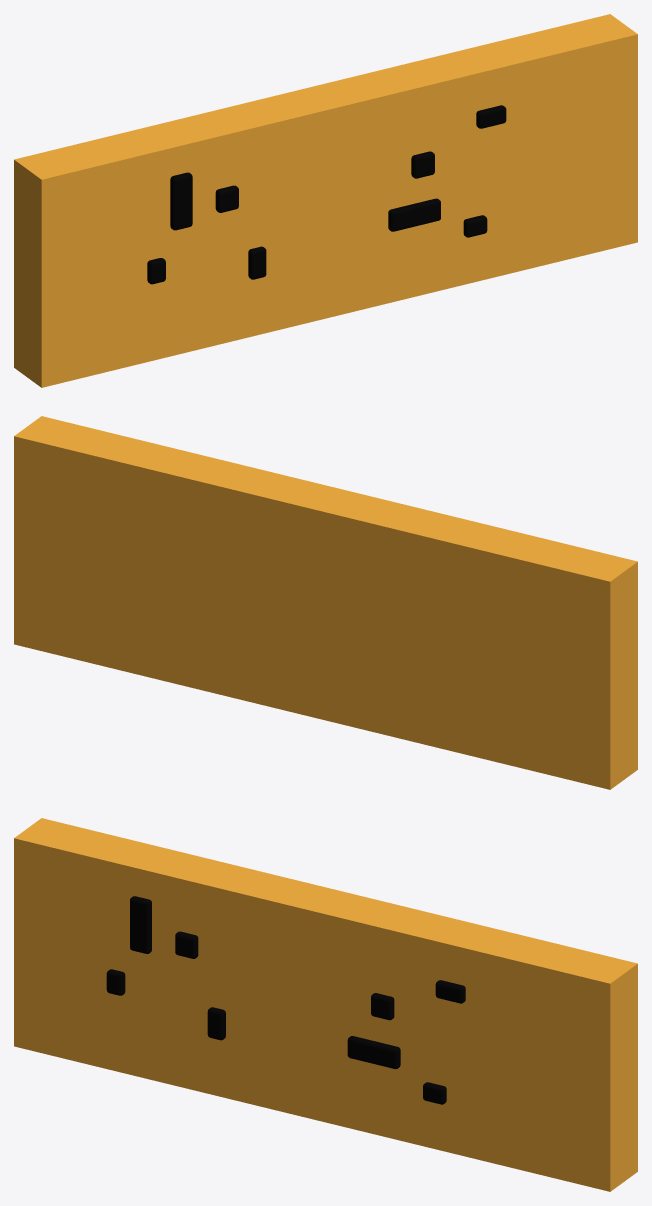
File: Roof Wall 2.fbx
3 views of the same model, one above another, from view 1: azimuth 30°, elevation 25°; view 2: azimuth 150°, elevation 25°; view 3: azimuth 330°, elevation 25° (orthographic).
Parts seen in each view (by area): view 1: Roof Wall 2; view 2: Roof Wall 2; view 3: Roof Wall 2.
Part boxes in pixels (x1=…): Roof Wall 2: x1=14, y1=14, x2=637, y2=387; Roof Wall 2: x1=14, y1=416, x2=637, y2=789; Roof Wall 2: x1=14, y1=818, x2=637, y2=1191.
Bounding box in the file's own units: 249 × 83.06 × 26.32.
Materials: 1 (1 with a texture image).
